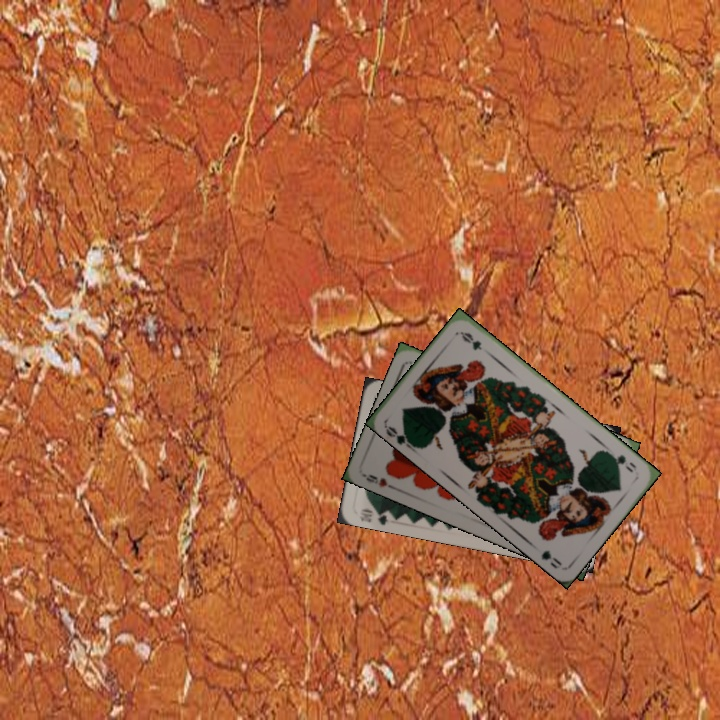G10: (355, 504, 391, 527)
GO: (382, 422, 419, 453), (604, 449, 639, 475)
H9: (360, 470, 399, 492)
